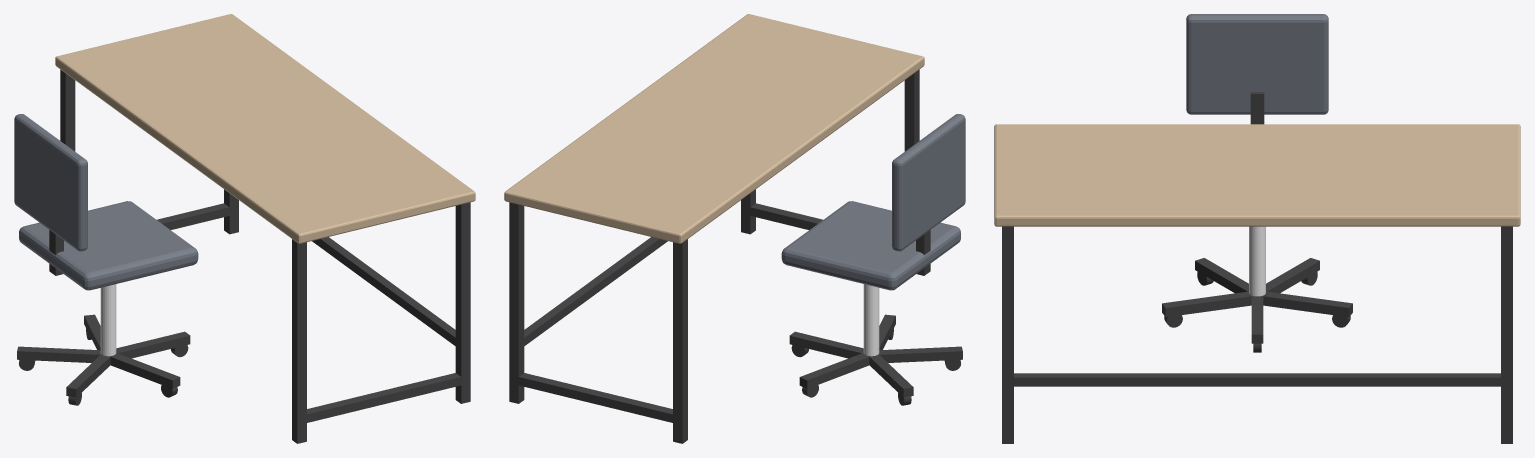
File: furniture_desk.fbx
3 renders of one model, left to right at view 1: azimuth 30°, elevation 25°; view 2: azimuth 150°, elevation 25°; view 3: azimuth 270°, elevation 25°, orthographic. The views are drawn at different scales.
Parts seen in each view (by area): view 1: Meja_Top, Kursi_Dudukan, Kursi_Sandaran, Meja_Kaki_Kanan_Belakang, Meja_Kaki_Kanan_Depan, Meja_Palang_Belakang, Meja_Palang_Kanan_Bawah, Kursi_Gaslift, Meja_Kaki_Kiri_Depan, Kursi_Kaki_3, Kursi_Kaki_5, Meja_Palang_Kiri_Bawah (+3 smaller); view 2: Meja_Top, Kursi_Dudukan, Kursi_Sandaran, Meja_Kaki_Kiri_Belakang, Meja_Kaki_Kiri_Depan, Meja_Palang_Belakang, Meja_Palang_Kiri_Bawah, Kursi_Gaslift, Meja_Kaki_Kanan_Depan, Kursi_Kaki_4, Kursi_Kaki_2, Kursi_Kaki_1 (+3 smaller); view 3: Meja_Top, Kursi_Sandaran, Meja_Palang_Belakang, Meja_Kaki_Kanan_Belakang, Meja_Kaki_Kiri_Belakang, Kursi_Kaki_2, Kursi_Kaki_5, Kursi_Gaslift, Kursi_Kaki_3, Kursi_Kaki_4, Kursi_Kaki_1.
Boxes of the visible parts, <box> form: Meja_Top: <box>55,14,475,243</box>; Kursi_Dudukan: <box>19,201,198,290</box>; Kursi_Sandaran: <box>14,114,87,251</box>; Meja_Kaki_Kanan_Belakang: <box>455,202,470,403</box>; Meja_Kaki_Kanan_Depan: <box>292,239,306,443</box>; Meja_Palang_Belakang: <box>312,237,455,345</box>; Meja_Palang_Kanan_Bawah: <box>298,373,469,422</box>; Kursi_Gaslift: <box>100,284,116,356</box>; Meja_Kaki_Kiri_Depan: <box>60,69,75,151</box>; Kursi_Kaki_3: <box>17,346,100,362</box>; Kursi_Kaki_5: <box>110,353,180,388</box>; Meja_Palang_Kiri_Bawah: <box>157,203,238,229</box>; Meja_Top: <box>504,14,924,243</box>; Kursi_Dudukan: <box>781,201,960,290</box>; Kursi_Sandaran: <box>892,114,965,251</box>; Meja_Kaki_Kiri_Belakang: <box>509,202,524,403</box>; Meja_Kaki_Kiri_Depan: <box>673,239,687,443</box>; Meja_Palang_Belakang: <box>524,237,667,345</box>; Meja_Palang_Kiri_Bawah: <box>518,373,681,424</box>; Kursi_Gaslift: <box>863,284,879,356</box>; Meja_Kaki_Kanan_Depan: <box>904,69,919,151</box>; Kursi_Kaki_4: <box>879,346,962,362</box>; Kursi_Kaki_2: <box>799,353,869,388</box>; Kursi_Kaki_1: <box>789,331,863,358</box>; Meja_Top: <box>994,124,1520,226</box>; Kursi_Sandaran: <box>1186,14,1328,114</box>; Meja_Palang_Belakang: <box>1014,373,1500,386</box>; Meja_Kaki_Kanan_Belakang: <box>1002,226,1013,443</box>; Meja_Kaki_Kiri_Belakang: <box>1501,226,1512,443</box>; Kursi_Kaki_2: <box>1262,291,1352,317</box>; Kursi_Kaki_5: <box>1162,291,1251,317</box>; Kursi_Gaslift: <box>1249,226,1265,296</box>; Kursi_Kaki_3: <box>1266,258,1319,293</box>; Kursi_Kaki_4: <box>1195,258,1248,293</box>; Kursi_Kaki_1: <box>1251,296,1263,343</box>.
Bounding box in the file's own units: 1.14 × 0.88 × 1.55.
